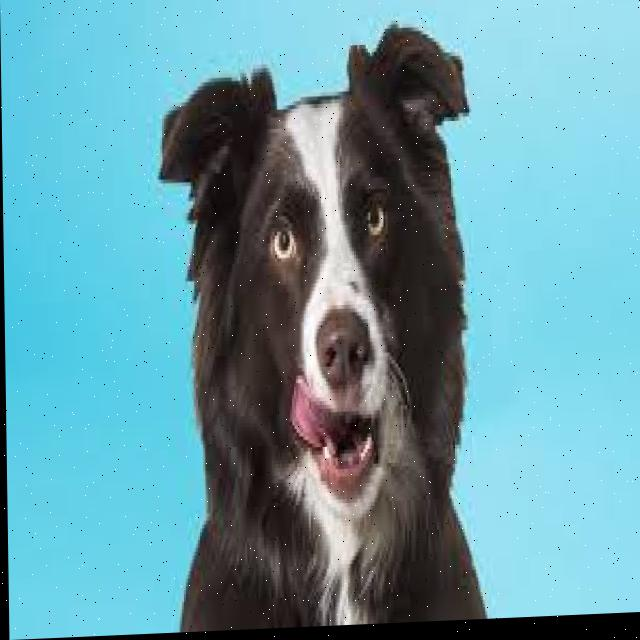ALASKAN_MALAMUTE: (151, 28, 502, 635)
